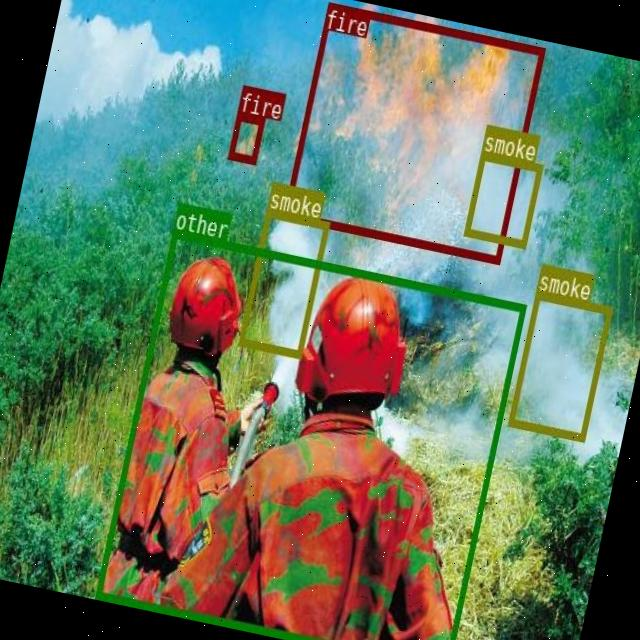fire: (282, 0, 544, 262), (227, 111, 264, 162)
smoke: (506, 288, 612, 439), (238, 208, 328, 356), (463, 150, 542, 246)
